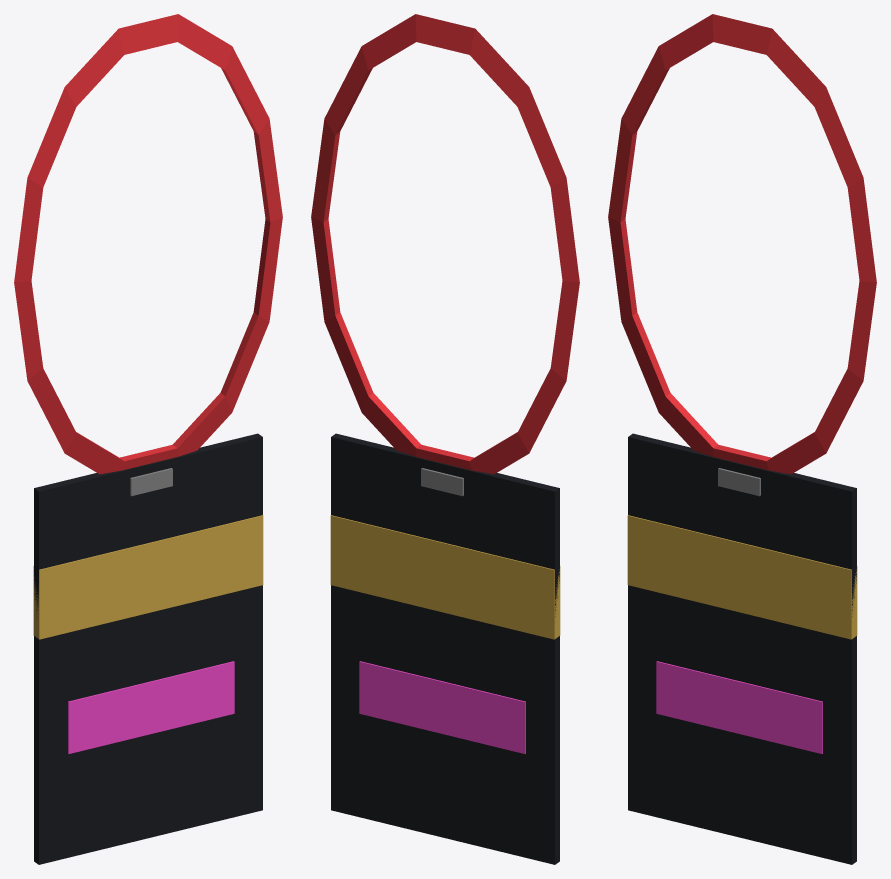
The model's file is vip-pass.glb.
The picture shows the model from 3 angles, left to right: view 1: azimuth 30°, elevation 25°; view 2: azimuth 150°, elevation 25°; view 3: azimuth 330°, elevation 25°; orthographic projection.
Visible parts, largest first — view 1: vip_pass; view 2: vip_pass; view 3: vip_pass.
Part boxes in pixels (x1,y1,x2,y2): vip_pass: [14, 14, 282, 864]; vip_pass: [311, 14, 579, 864]; vip_pass: [608, 14, 876, 864].
Size of the model in its own units: 0.0648 by 0.1876 by 0.003.
